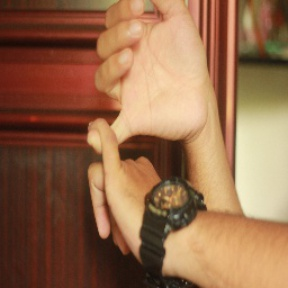S: (79, 1, 208, 258)
